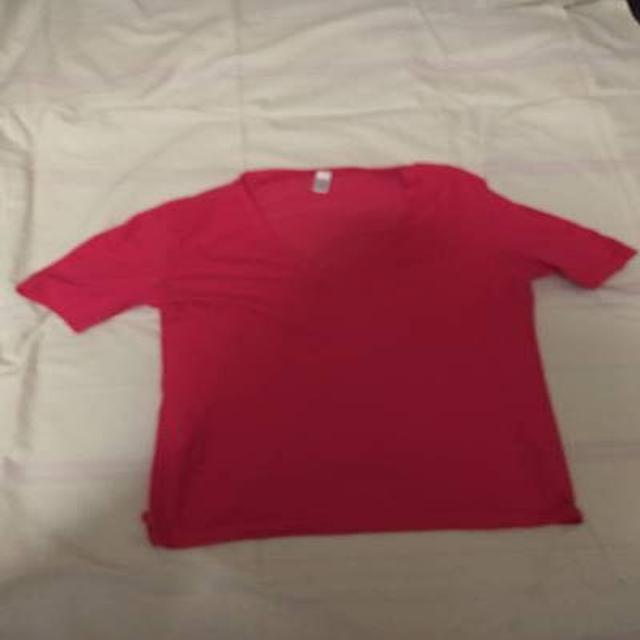T_SHIRT: (13, 153, 637, 556)
